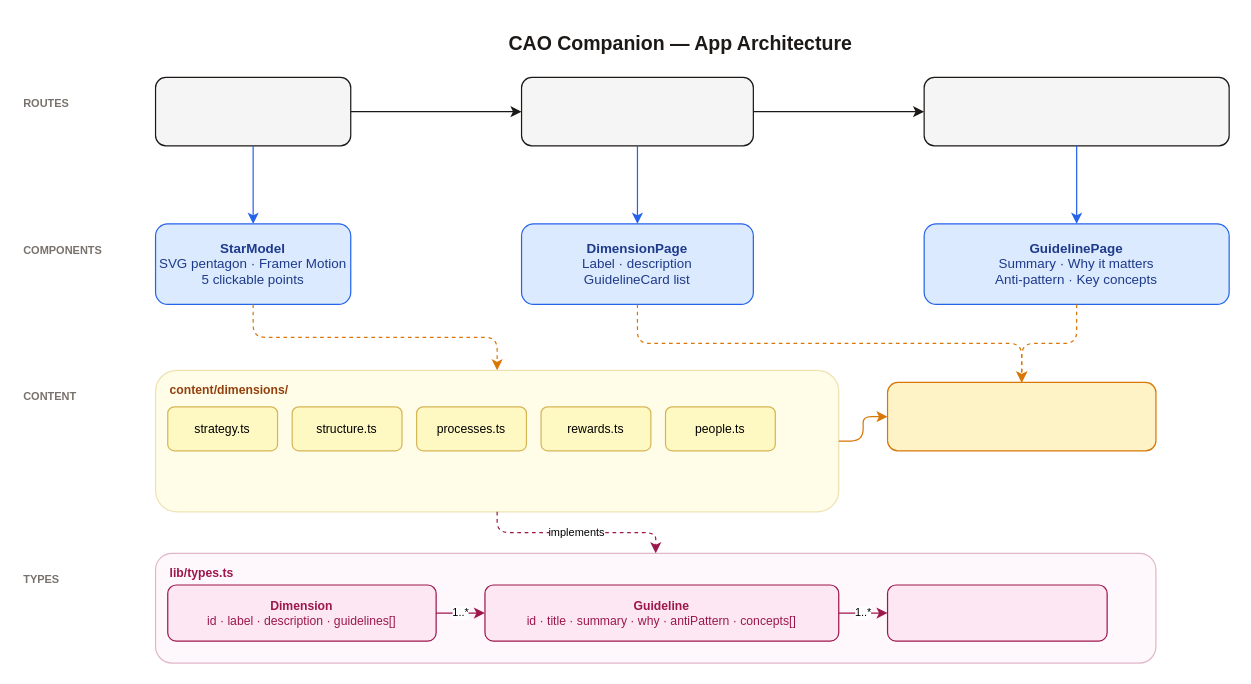
This 1251x684 diagram has some shape labels left out. The shapes that lost their labels are listed below. From the top down, each one's centre as x and y in pixels, then its label:
At point (252, 111): "/ Home".
At point (636, 111): "/[dimension] e.g. /structure".
At point (1076, 111): "/[dimension]/[guideline] e.g. /structure/product-groups".
At point (1021, 416): "index.ts getDimension() · getGuideline()".
At point (996, 612): "Concept term · definition".
